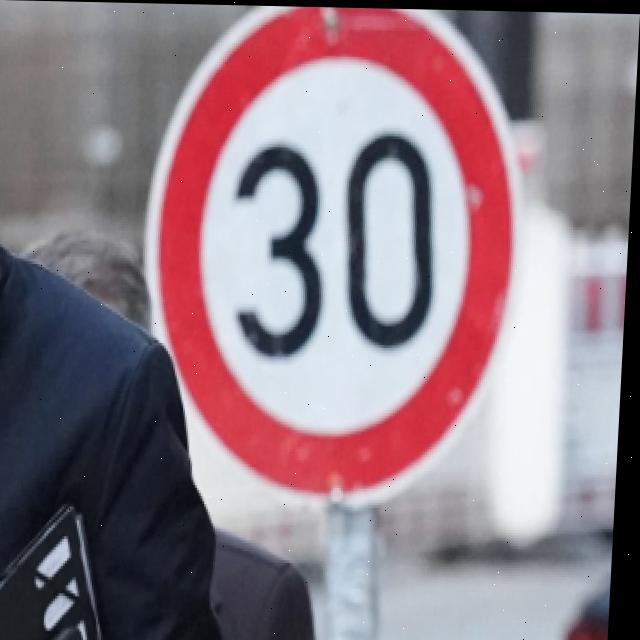Speed limit 30: (135, 4, 535, 512)
